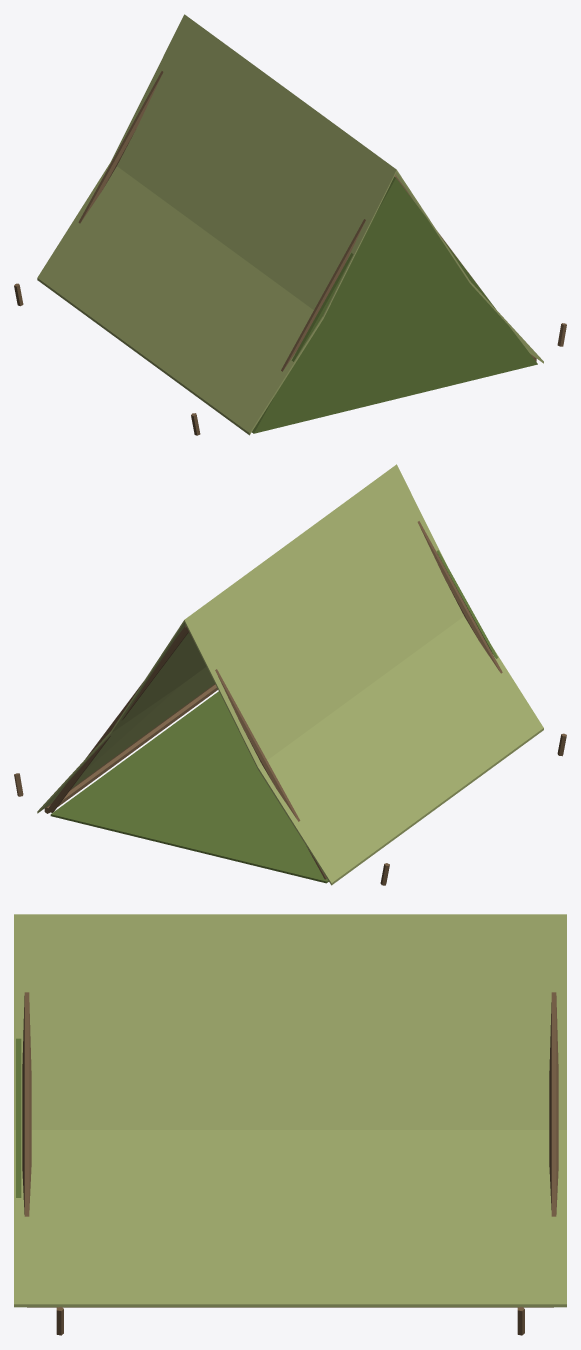
The model's file is TW_CAMP_TENT_RIDGE_A_LOD1.glb.
3 renders of one model, top to bottom at view 1: azimuth 30°, elevation 25°; view 2: azimuth 150°, elevation 25°; view 3: azimuth 270°, elevation 25°, orthographic. The views are drawn at different scales.
Visible parts, largest first — view 1: TW_CAMP_TENT_RIDGE_A; view 2: TW_CAMP_TENT_RIDGE_A; view 3: TW_CAMP_TENT_RIDGE_A.
Boxes of the visible parts, <box> form: TW_CAMP_TENT_RIDGE_A: <box>14,14,566,435</box>; TW_CAMP_TENT_RIDGE_A: <box>14,464,566,885</box>; TW_CAMP_TENT_RIDGE_A: <box>14,914,566,1335</box>.
Size of the model in its own units: 3.06 by 1.82 by 3.
